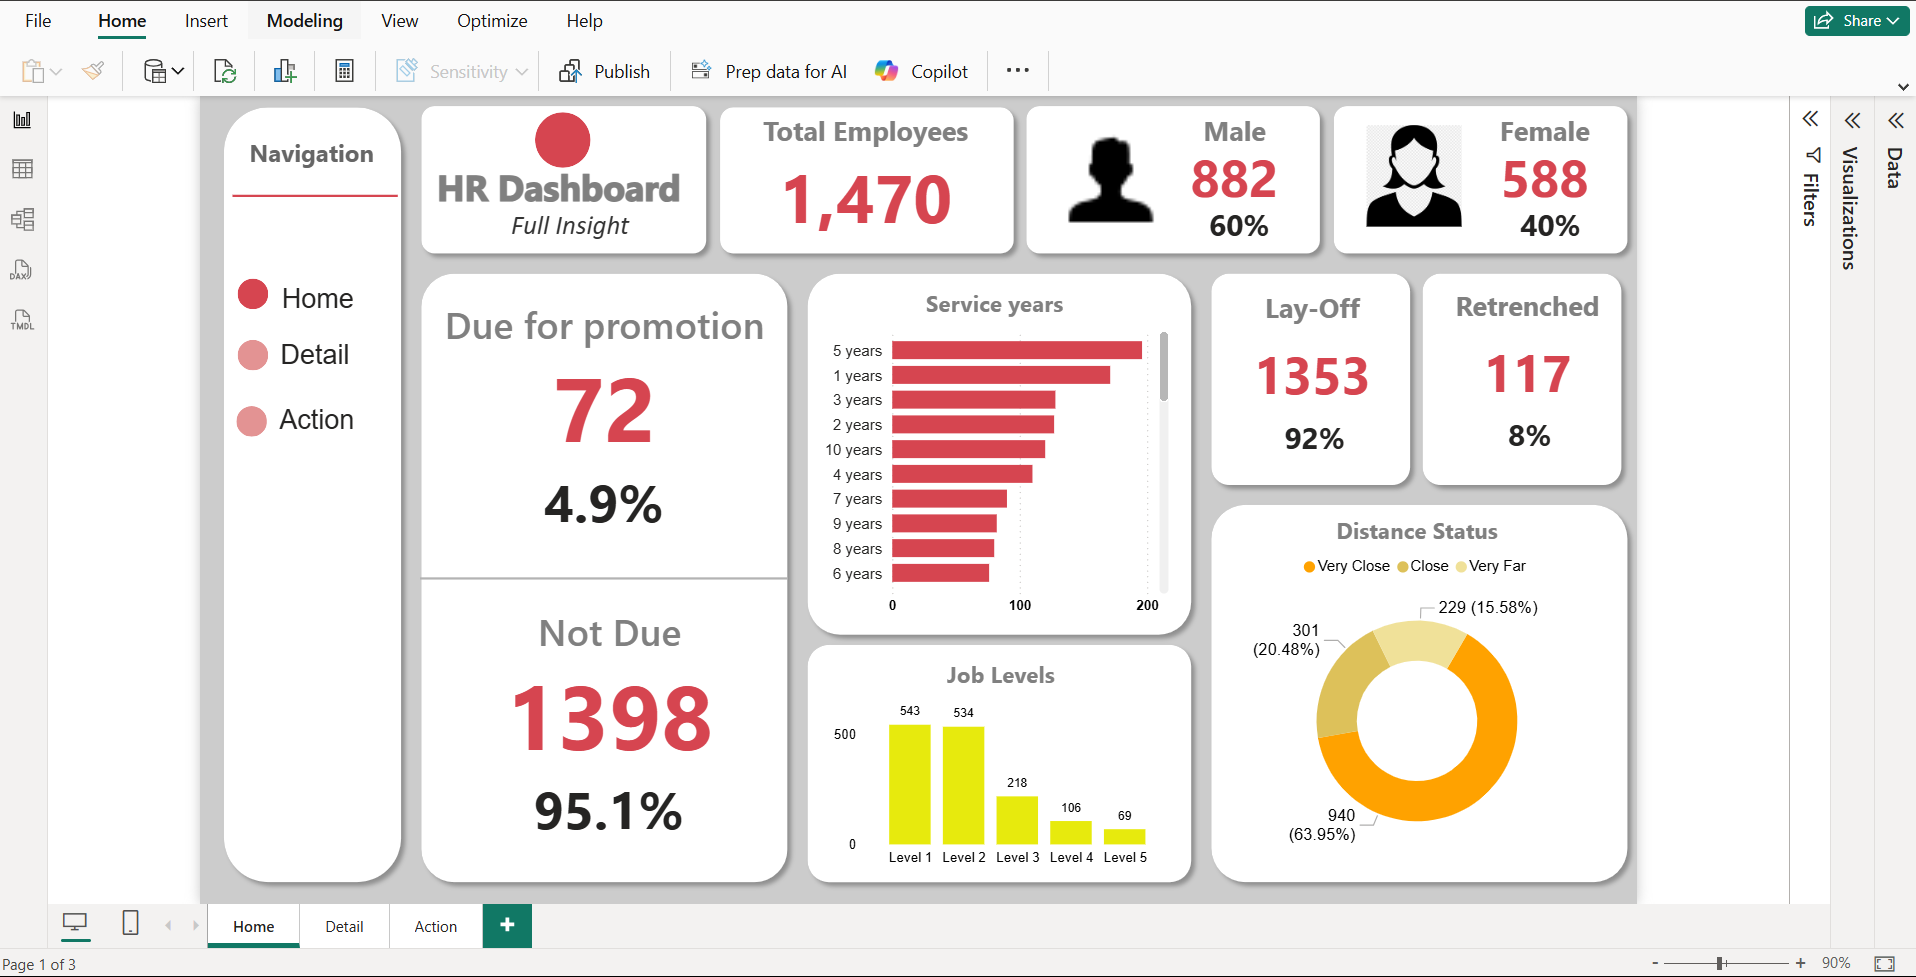

The dashboard page shown, as its layout file describes it:
{"tool":"powerbi","page":{"name":"Home","canvas":[1280,720],"ordinal":0},"visuals":[{"type":"shape","box":[12.2,1.1,175.9,708],"z":0},{"type":"shape","box":[891.2,148.8,195,206.2],"z":1000},{"type":"shape","box":[891.7,355.1,388.5,354],"z":2000},{"type":"shape","box":[532.1,479.8,359.6,229.3],"z":3000},{"type":"shape","box":[532.1,149.2,359.6,339.5],"z":4000},{"type":"shape","box":[453.8,1.1,279.4,148.1],"z":5000},{"type":"shape","box":[188.1,0,271.6,149.2],"z":6000},{"type":"shape","box":[727.3,0,279.4,149.2],"z":7000},{"type":"shape","box":[1000.6,0,279.4,149.2],"z":8000},{"type":"shape","box":[188.1,149.2,344,560],"z":9000},{"type":"textbox","box":[205.6,54.6,236,58.4],"z":10000},{"type":"textbox","box":[261.4,83.7,144.6,57.1],"z":11000},{"type":"shape","box":[298.2,14,49.5,49.5],"z":12000},{"type":"card","title":"Total Employees","fields":{"Values":["All Measures.Total Employees"]},"box":[474.5,14,237.3,112.9],"z":13000},{"type":"card","title":"Male","fields":{"Values":["All Measures.Male"]},"box":[856.5,14,130.7,81.2],"z":14000},{"type":"card","title":"Male","fields":{"Values":["All Measures.Male %"]},"box":[889.5,95.2,72.3,41.9],"z":15000},{"type":"card","title":"Female","fields":{"Values":["All Measures.Female"]},"box":[1130.5,14,133.2,81.2],"z":16000},{"type":"card","title":"Male","fields":{"Values":["All Measures.Female %"]},"box":[1166.1,95.2,72.3,41.9],"z":17000},{"type":"image","box":[1030.3,21.6,100.2,100.2],"z":18000},{"type":"image","box":[753.7,14,112.9,112.9],"z":19000},{"type":"card","title":"Due for promotion","fields":{"Values":["All Measures.Due for promotion"]},"box":[210.6,180.2,300,140],"z":20000},{"type":"card","fields":{"Values":["All Measures.Due for promotion %"]},"box":[265.3,315.3,189.8,89.8],"z":21000},{"type":"shape","box":[195.9,411.2,327.6,37.8],"z":22000},{"type":"card","title":"Not Due","fields":{"Values":["All Measures.Not Due"]},"box":[214.6,454.2,300,140],"z":23000},{"type":"card","fields":{"Values":["All Measures.Not Due %"]},"box":[269.3,589.3,189.8,89.8],"z":24000},{"type":"clusteredBarChart","title":"Service years","fields":{"Category":["HR Analytics Data.Service Year"],"Y":["All Measures.Total Employees"]},"box":[547.5,170,320,300],"z":25000},{"type":"columnChart","title":"Job Levels","fields":{"Y":["All Measures.Total Employees"],"Category":["HR Analytics Data.Job Levels"]},"box":[558.8,501.2,308.8,193.8],"z":26000},{"type":"shape","box":[1080,148.8,195,206.2],"z":27000},{"type":"card","title":"Retrenched","fields":{"Values":["All Measures.Retrenched"]},"box":[1101.2,170,162.5,117.5],"z":28000},{"type":"card","title":"Male","fields":{"Values":["All Measures.Retrenched %"]},"box":[1140,272.5,88.8,60],"z":29000},{"type":"card","title":"Lay-Off","fields":{"Values":["All Measures.Lay-Off"]},"box":[909.3,173,162.5,117.5],"z":30000},{"type":"card","title":"Male","fields":{"Values":["All Measures.Lay-Off %"]},"box":[948,275.5,88.8,60],"z":31000},{"type":"donutChart","title":"Distance Status","fields":{"Y":["All Measures.Total Employees"],"Category":["HR Analytics Data.Distance Status"]},"box":[908.8,372.5,351.2,311.2],"z":32000},{"type":"textbox","box":[38.8,31.2,137.5,42.5],"z":33000},{"type":"shape","box":[28.8,65,147.5,48.8],"z":34000},{"type":"shape","box":[33.8,162.5,27.5,27.5],"z":35000},{"type":"textbox","box":[67.5,162.5,101.2,43.8],"z":36000},{"type":"shape","box":[33.8,216.9,27.5,27.5],"z":37000},{"type":"textbox","box":[67,213,101.2,43.8],"z":38000},{"type":"shape","box":[32.5,276.2,27.5,27.5],"z":39000},{"type":"textbox","box":[66,271,101.2,43.8],"z":40000},{"type":"actionButton","box":[22.9,203.9,47.1,50.7],"z":41000},{"type":"actionButton","box":[24.1,267.8,47.1,50.7],"z":42000}]}

Visuals, with their boxes on the page's 1280x720 design canvas (x1, y1, x2, y2). These are canvas units, not pixel positions in the 1916x977 screenshot, which may show the page scaled, cropped or inside an application window:
shape: x1=12, y1=1, x2=188, y2=709
shape: x1=891, y1=149, x2=1086, y2=355
shape: x1=892, y1=355, x2=1280, y2=709
shape: x1=532, y1=480, x2=892, y2=709
shape: x1=532, y1=149, x2=892, y2=489
shape: x1=454, y1=1, x2=733, y2=149
shape: x1=188, y1=0, x2=460, y2=149
shape: x1=727, y1=0, x2=1007, y2=149
shape: x1=1001, y1=0, x2=1280, y2=149
shape: x1=188, y1=149, x2=532, y2=709
textbox: x1=206, y1=55, x2=442, y2=113
textbox: x1=261, y1=84, x2=406, y2=141
shape: x1=298, y1=14, x2=348, y2=64
"Total Employees" card: x1=474, y1=14, x2=712, y2=127
"Male" card: x1=856, y1=14, x2=987, y2=95
"Male" card: x1=890, y1=95, x2=962, y2=137
"Female" card: x1=1130, y1=14, x2=1264, y2=95
"Male" card: x1=1166, y1=95, x2=1238, y2=137
image: x1=1030, y1=22, x2=1130, y2=122
image: x1=754, y1=14, x2=867, y2=127
"Due for promotion" card: x1=211, y1=180, x2=511, y2=320
card - All Measures.Due for promotion %: x1=265, y1=315, x2=455, y2=405
shape: x1=196, y1=411, x2=524, y2=449
"Not Due" card: x1=215, y1=454, x2=515, y2=594
card - All Measures.Not Due %: x1=269, y1=589, x2=459, y2=679
"Service years" clusteredBarChart: x1=548, y1=170, x2=868, y2=470
"Job Levels" columnChart: x1=559, y1=501, x2=868, y2=695
shape: x1=1080, y1=149, x2=1275, y2=355
"Retrenched" card: x1=1101, y1=170, x2=1264, y2=288
"Male" card: x1=1140, y1=272, x2=1229, y2=332
"Lay-Off" card: x1=909, y1=173, x2=1072, y2=290
"Male" card: x1=948, y1=276, x2=1037, y2=336
"Distance Status" donutChart: x1=909, y1=372, x2=1260, y2=684
textbox: x1=39, y1=31, x2=176, y2=74
shape: x1=29, y1=65, x2=176, y2=114
shape: x1=34, y1=162, x2=61, y2=190
textbox: x1=68, y1=162, x2=169, y2=206
shape: x1=34, y1=217, x2=61, y2=244
textbox: x1=67, y1=213, x2=168, y2=257
shape: x1=32, y1=276, x2=60, y2=304
textbox: x1=66, y1=271, x2=167, y2=315
actionButton: x1=23, y1=204, x2=70, y2=255
actionButton: x1=24, y1=268, x2=71, y2=318
